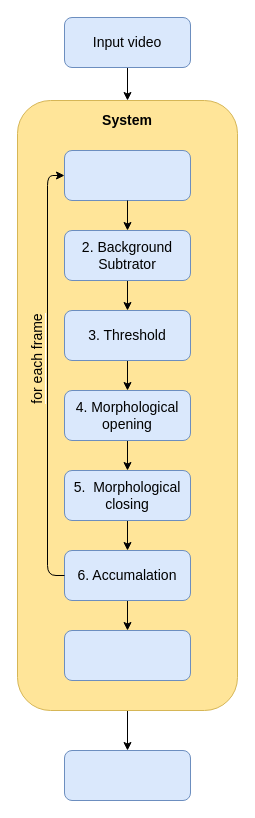
Some shapes in this 255 by 818 pixel diagram are drawn without their labels. Each missing label, with the centre of its shape:
"1. Gauss Filter" goes at (127,175).
"7. Colorscale" goes at (127,655).
"Heatmap" goes at (127,775).
